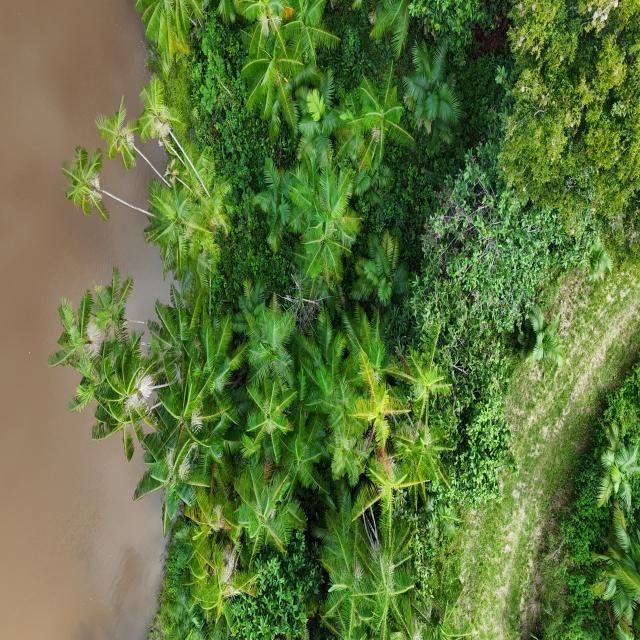vegetation: (46, 1, 635, 638)
